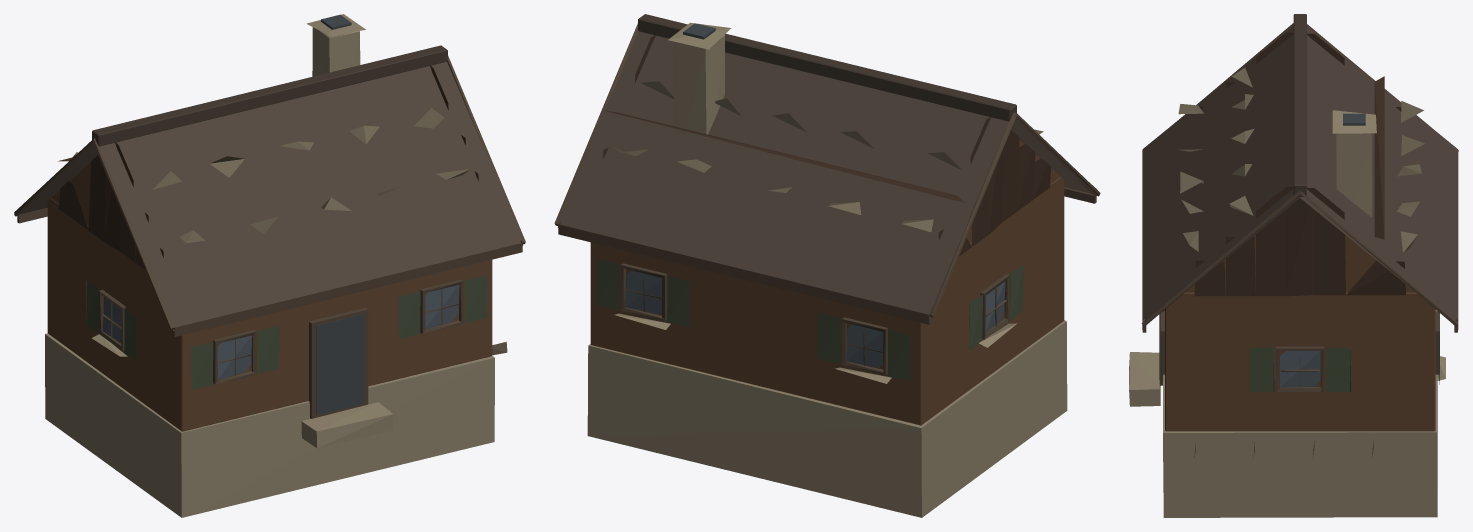
File: alpine-hut-lod1.glb
3 renders of one model, left to right at view 1: azimuth 30°, elevation 25°; view 2: azimuth 150°, elevation 25°; view 3: azimuth 270°, elevation 25°, orthographic. The views are drawn at different scales.
Size of the model in its own units: 9.32 by 9.02 by 7.32.
